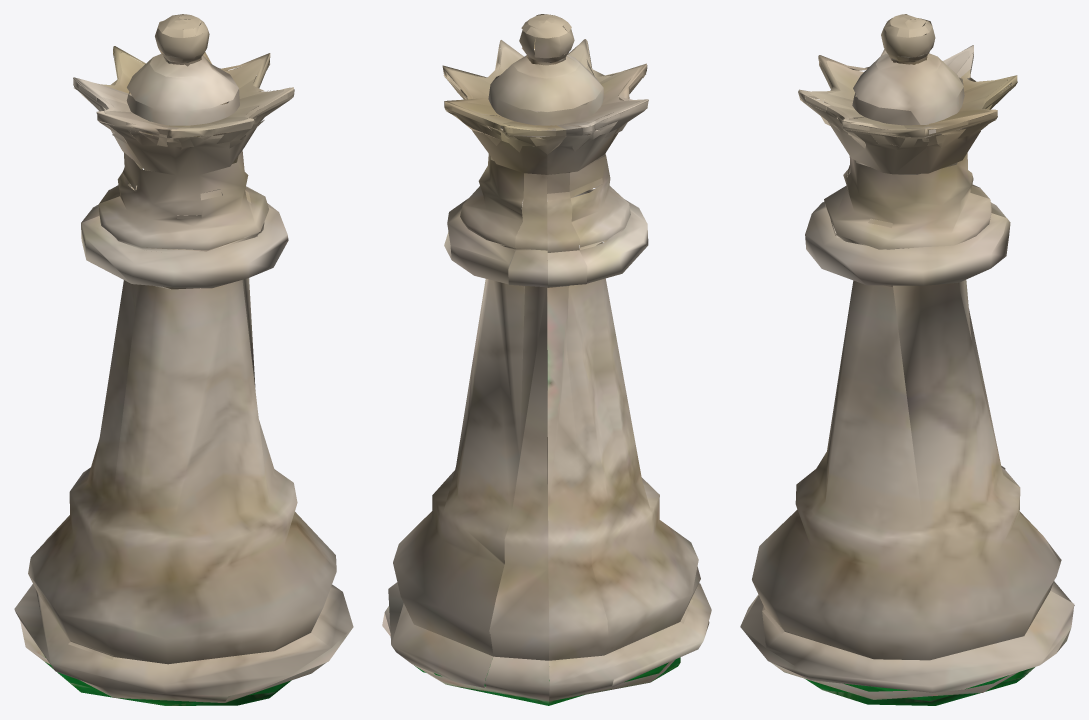
The picture shows the model from 3 angles, left to right: view 1: azimuth 30°, elevation 25°; view 2: azimuth 150°, elevation 25°; view 3: azimuth 270°, elevation 25°; orthographic projection.
Parts seen in each view (by area): view 1: WK; view 2: WK; view 3: WK.
Part boxes in pixels (left/top/right/bottom): WK: left=14, top=14, right=353, bottom=705; WK: left=382, top=14, right=711, bottom=705; WK: left=740, top=14, right=1074, bottom=705.
Bounding box in the file's own units: 0.0401 × 0.0833 × 0.04.
1 material, 1 textured.
